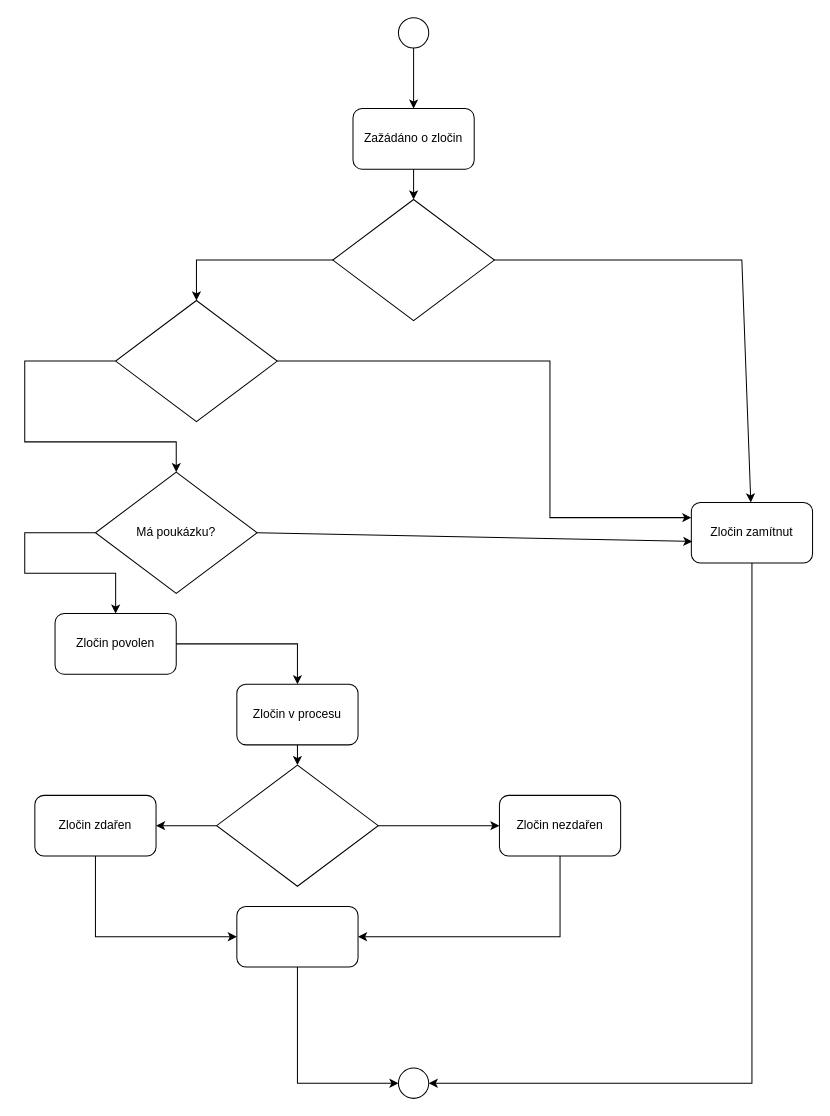
The diagram is 830 pixels wide and 1116 high, and some of its shapes have lost their labels. Each missing label, with the centre of its shape:
"Má potřebné vybavení?" goes at pixel 196 360.
"Má školení?" goes at pixel 413 259.
"Zločin zaevidován" goes at pixel 297 936.
"Zločin úspěšný?" goes at pixel 297 825.
